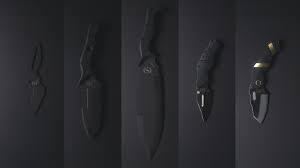Knife: (137, 6, 166, 156), (75, 22, 105, 138), (250, 40, 280, 124), (194, 37, 222, 122), (25, 43, 46, 114)
